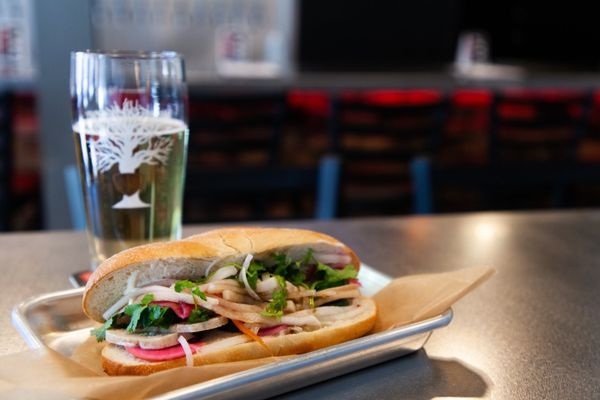pizza: (69, 48, 190, 273)
soup: (79, 226, 378, 376)
